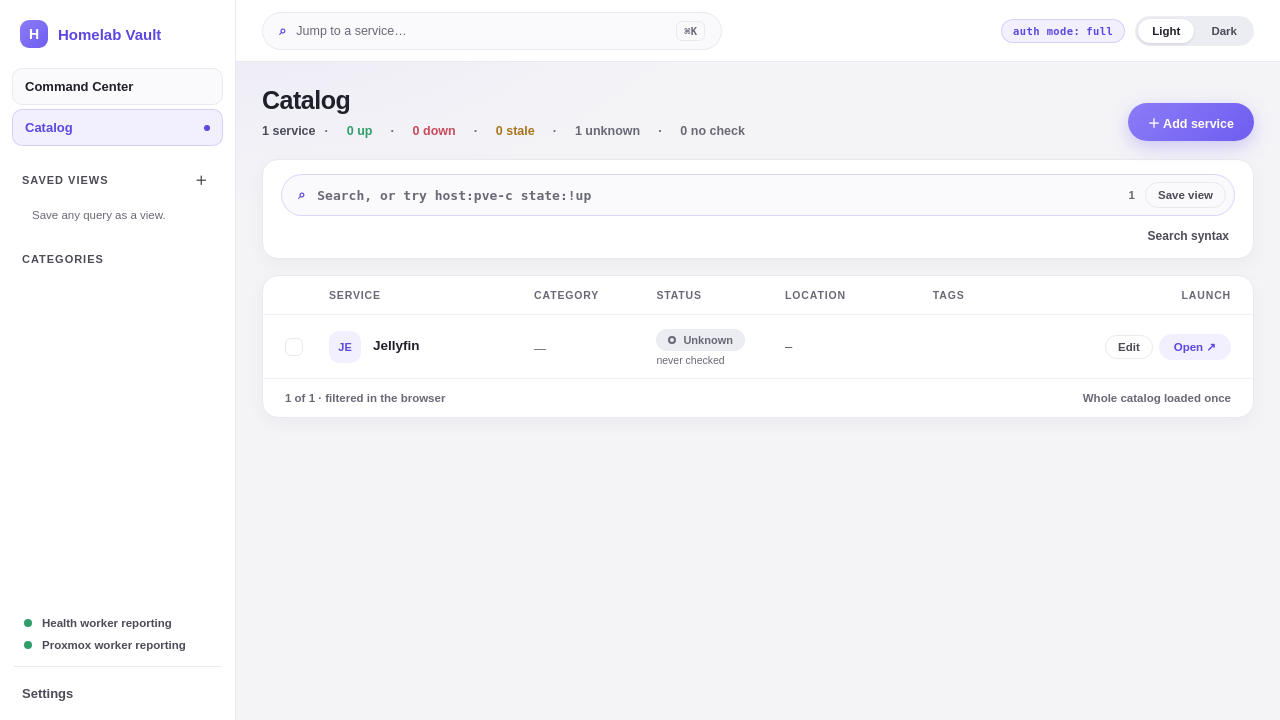
Test: write-path error handling (audit S11) › shows a failed view save in the modal instead of dying silently
Click the button "Save view": (1186,195) 1145,182 -> 1226,208
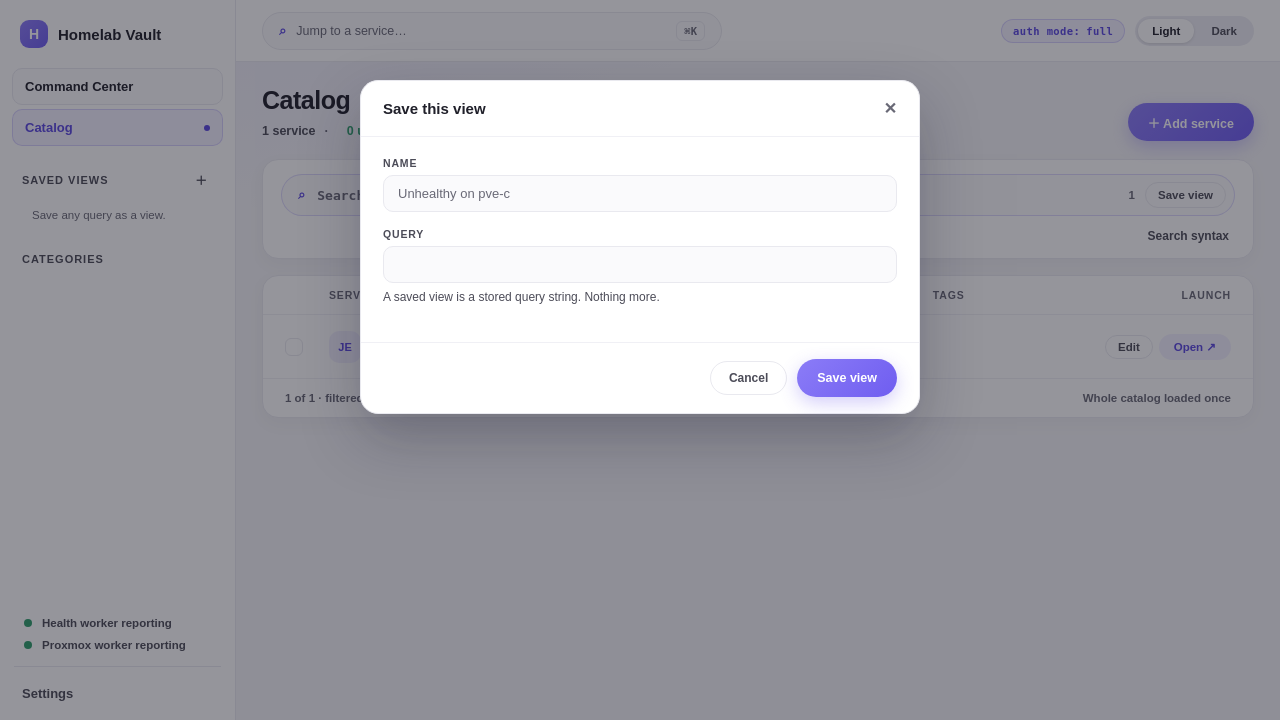
In the field with placeholder "Unhealthy on pve-c": (640,194) 383,175 -> 897,212, type "My view"
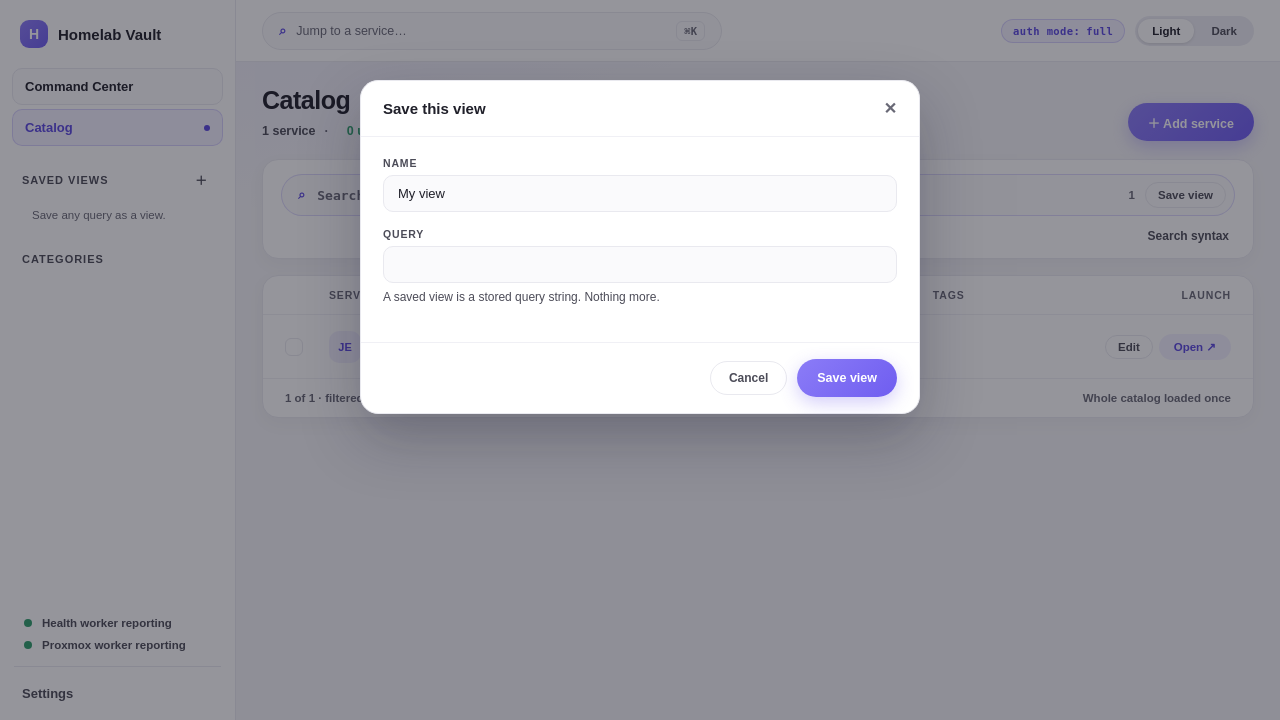
Click the button "Save view": (847,378) 797,359 -> 897,397
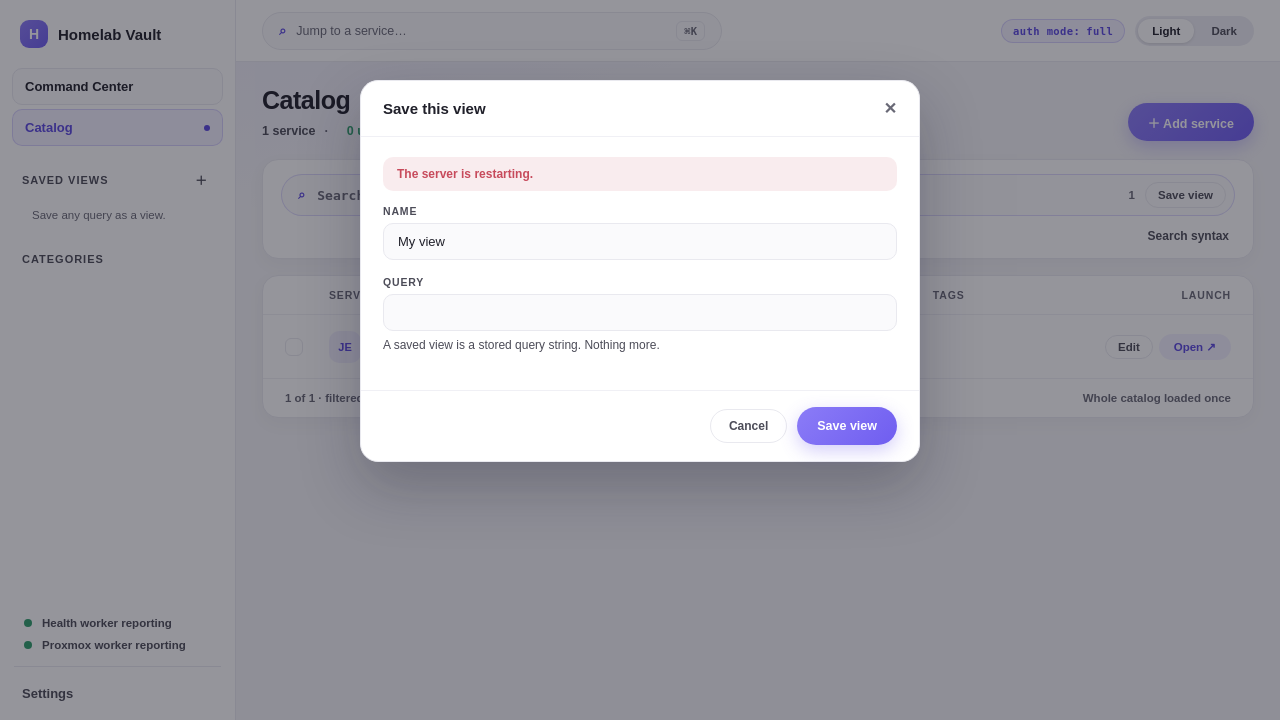
Check: the element with class "modal" is shown, box 360,80 -> 920,462
Check: the text with class "err" reads "The server is restarting.", box 397,167 -> 533,181
